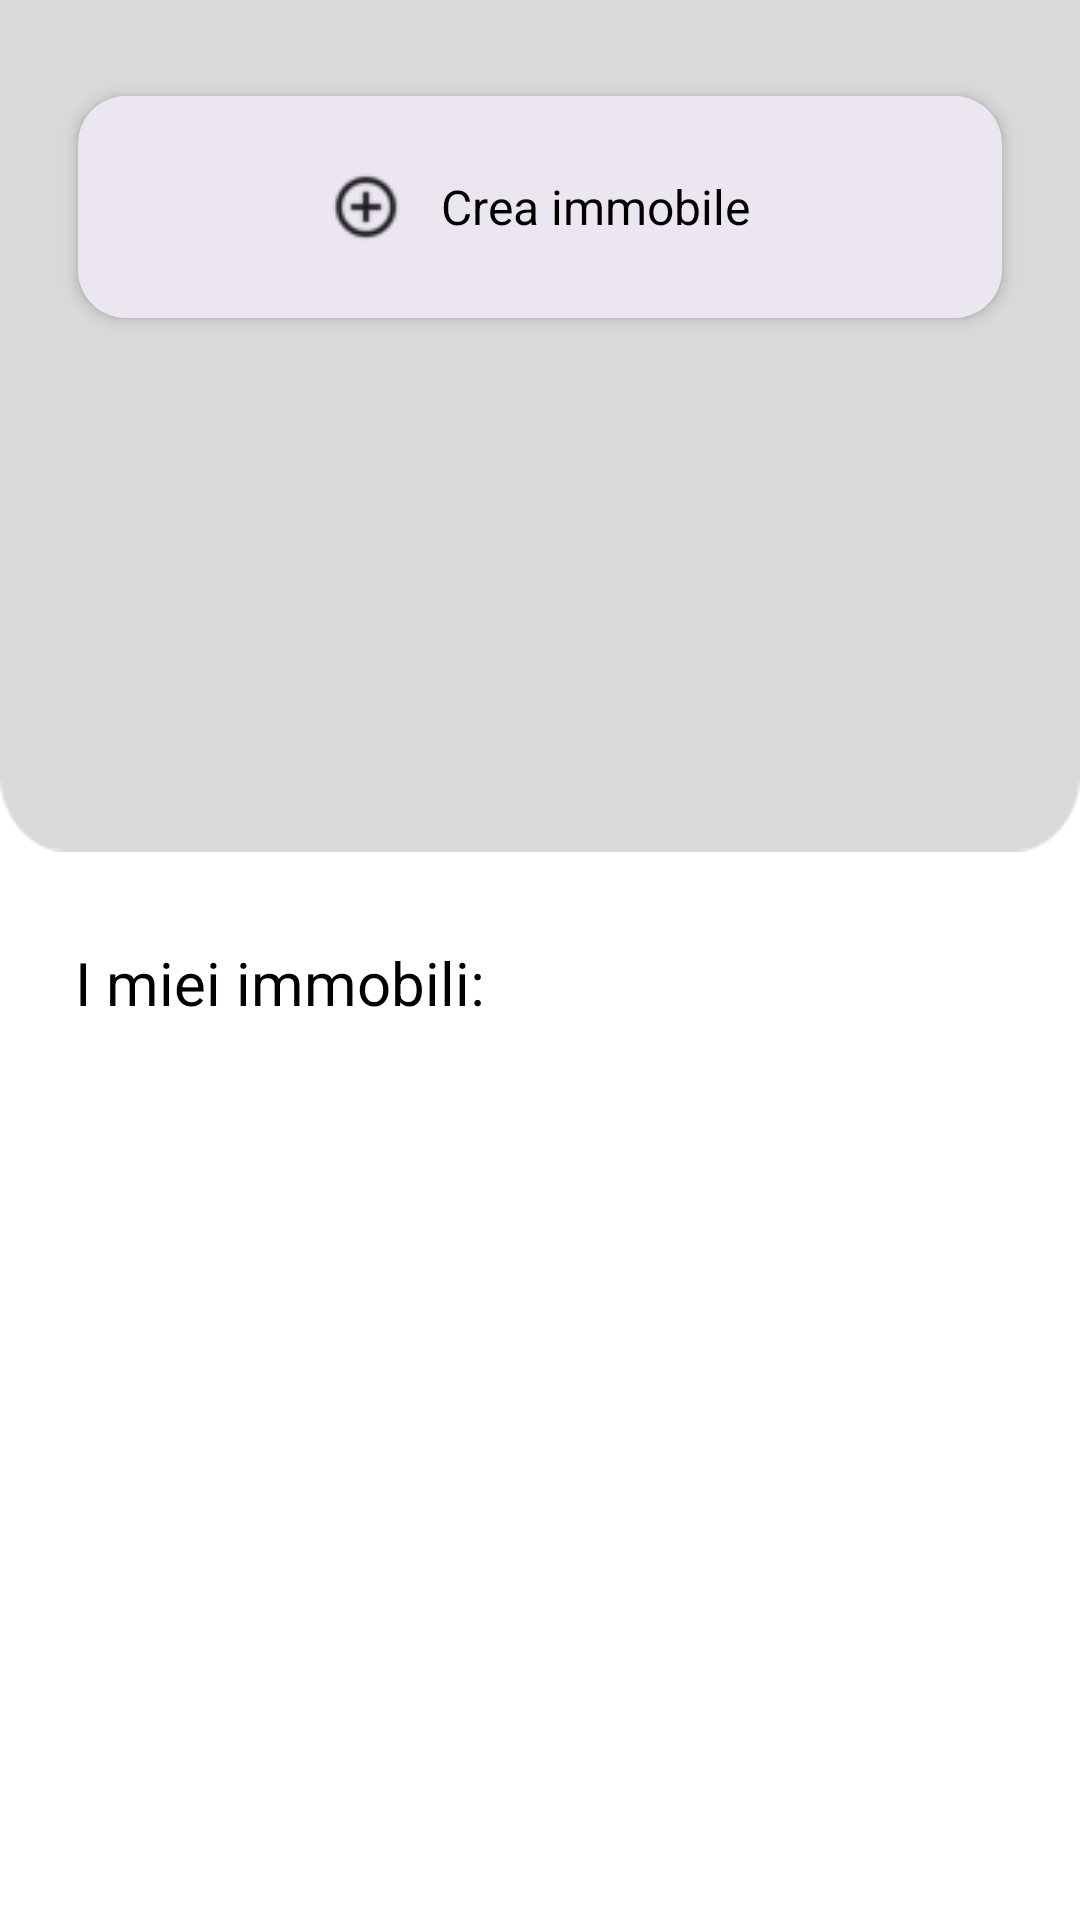

Screen size 1080px x 1920px. Icon name, then its box in pixels as (x1, y1, x2, y2):
add: (335, 176, 397, 238)
